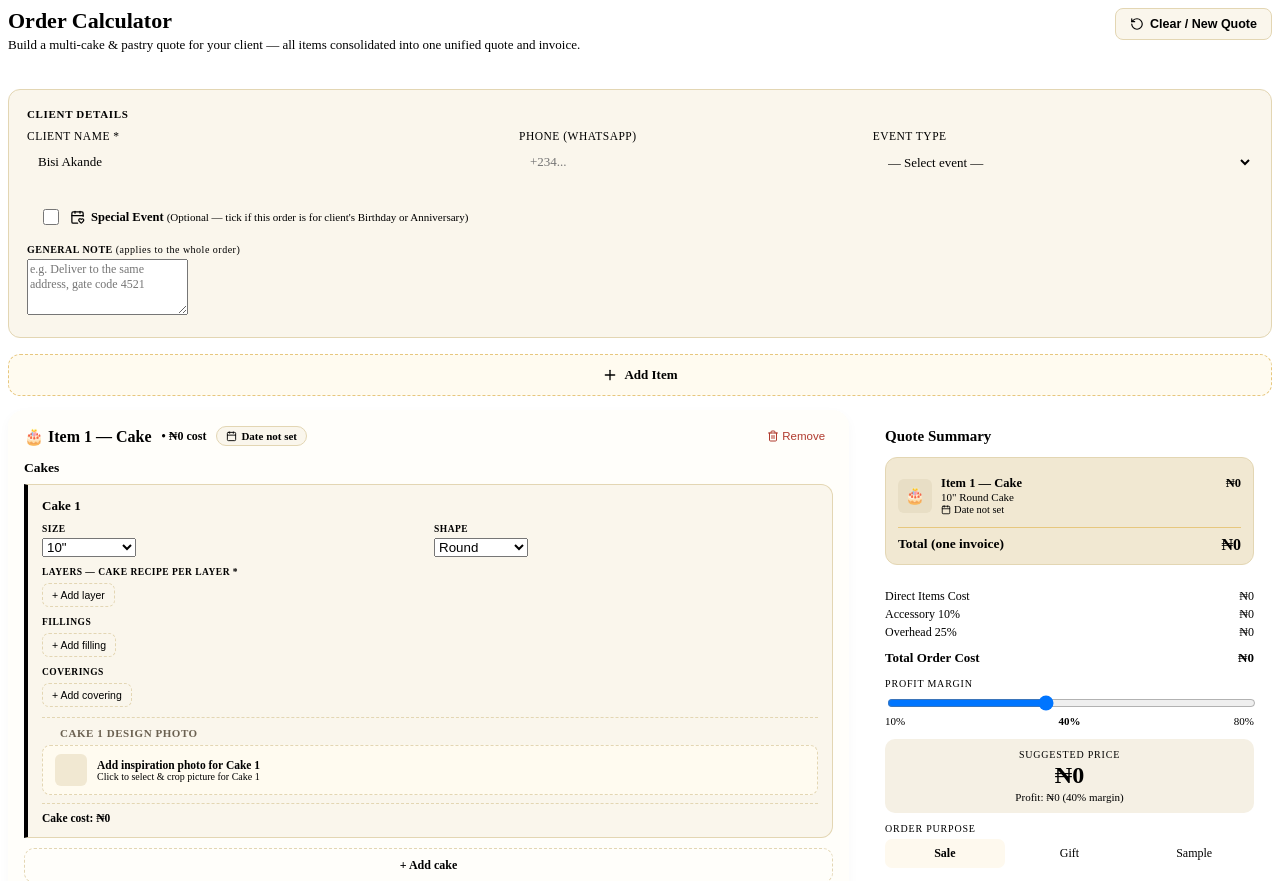
Test case: OrderCalculator Multi-Item Tests › should allow removing an item and show no item divs when all items are removed
Click the button "Remove".
click(796, 436)  # box [759, 426, 833, 446]
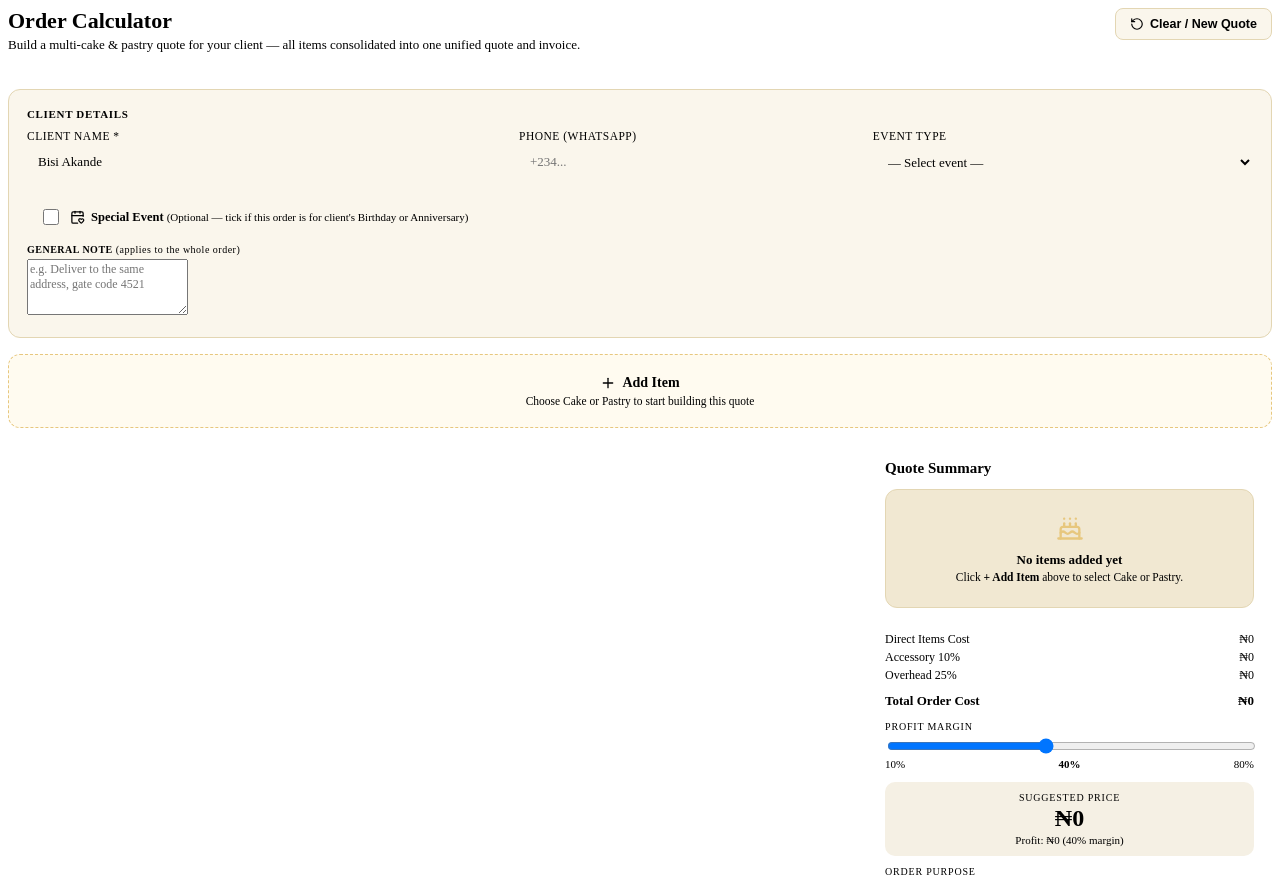
Now the text "Item 1 — Cake" is gone
Now the text "No items added yet" is shown, box [1017, 552, 1122, 567]
